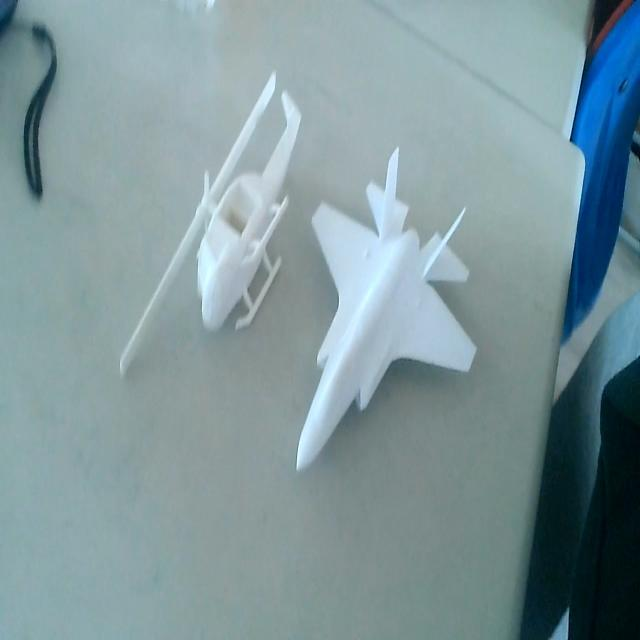Helicopter: (121, 72, 304, 384)
Jet: (296, 143, 480, 475)
